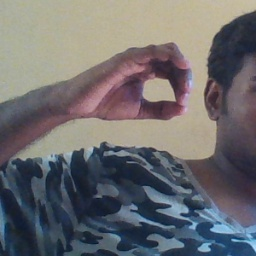O: (69, 40, 197, 124)
